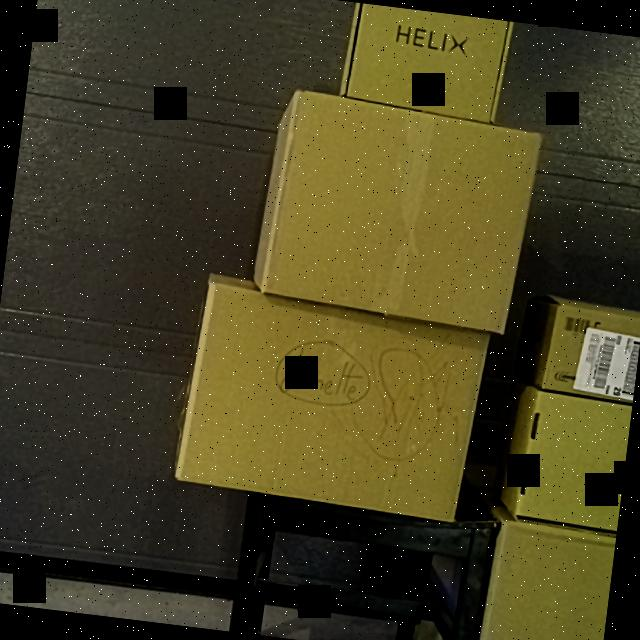box: (180, 292, 488, 524), (259, 97, 539, 326), (343, 2, 509, 121), (516, 386, 633, 534), (482, 516, 616, 640), (541, 302, 640, 399)
